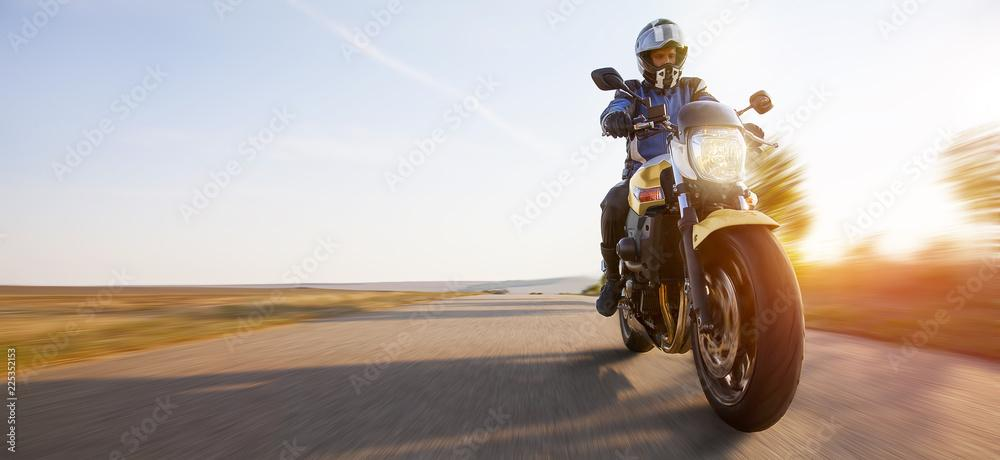helmet: (634, 17, 689, 90)
